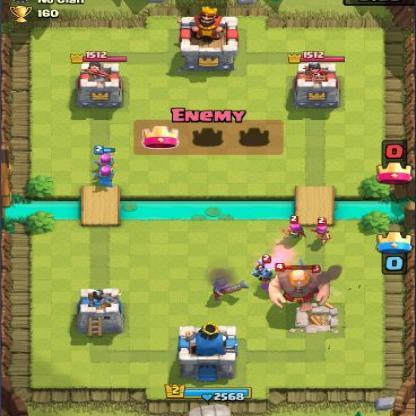ally_archer: (92, 142, 124, 174), (94, 166, 120, 190)
ally_musketeer: (208, 272, 251, 304)
enemy_archer: (276, 212, 310, 243), (310, 217, 334, 246)
enemy_giant: (266, 261, 334, 311)
enemy_knight: (308, 262, 335, 296)
enemy_minion: (247, 252, 280, 284)
